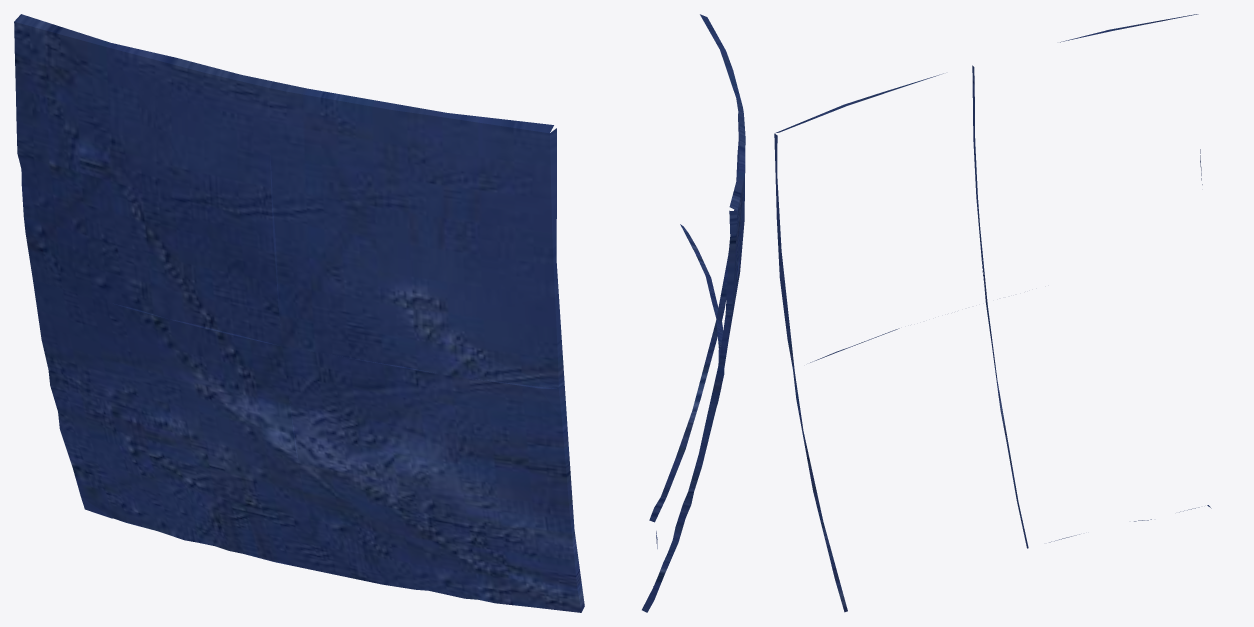
3 renders of one model, left to right at view 1: azimuth 30°, elevation 25°; view 2: azimuth 150°, elevation 25°; view 3: azimuth 270°, elevation 25°, orthographic. The views are drawn at different scales.
Bounding box in the file's own units: 1762596 × 2456586 × 2283216.
Materials: 1 (1 with a texture image).
